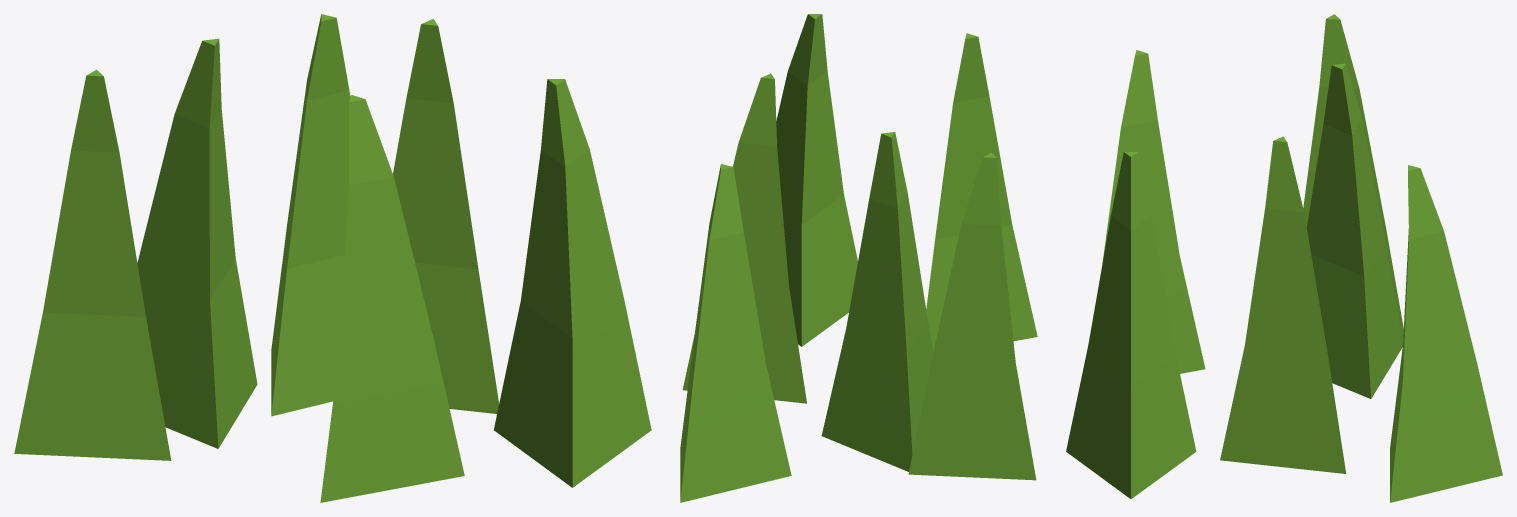
File: grasse.fbx
The picture shows the model from 3 angles, left to right: view 1: azimuth 30°, elevation 25°; view 2: azimuth 150°, elevation 25°; view 3: azimuth 270°, elevation 25°; orthographic projection. The views are drawn at different scales.
Visible parts, largest first — view 1: Cylinder.010, Cylinder.003, Cylinder.009, Cylinder.005, Cylinder.007, Cylinder.008; view 2: Cylinder.003, Cylinder.005, Cylinder.007, Cylinder.010, Cylinder.008, Cylinder.009; view 3: Cylinder.010, Cylinder.008, Cylinder.007, Cylinder.005, Cylinder.009, Cylinder.003.
Boxes of the visible parts, bbox=[...] form: Cylinder.010: bbox=[494, 79, 651, 487]; Cylinder.003: bbox=[14, 69, 171, 460]; Cylinder.009: bbox=[320, 95, 464, 502]; Cylinder.005: bbox=[137, 38, 257, 448]; Cylinder.007: bbox=[271, 14, 350, 416]; Cylinder.008: bbox=[393, 19, 498, 413]; Cylinder.003: bbox=[908, 152, 1036, 480]; Cylinder.005: bbox=[821, 132, 933, 471]; Cylinder.007: bbox=[680, 164, 791, 502]; Cylinder.010: bbox=[776, 14, 857, 346]; Cylinder.008: bbox=[682, 73, 806, 403]; Cylinder.009: bbox=[926, 33, 1037, 351]; Cylinder.010: bbox=[1066, 152, 1196, 498]; Cylinder.008: bbox=[1220, 136, 1346, 473]; Cylinder.007: bbox=[1390, 165, 1502, 502]; Cylinder.005: bbox=[1306, 63, 1402, 398]; Cylinder.009: bbox=[1102, 50, 1205, 373]; Cylinder.003: bbox=[1303, 14, 1403, 345].
Size of the model in its own units: 64.41 by 54.56 by 58.8.
